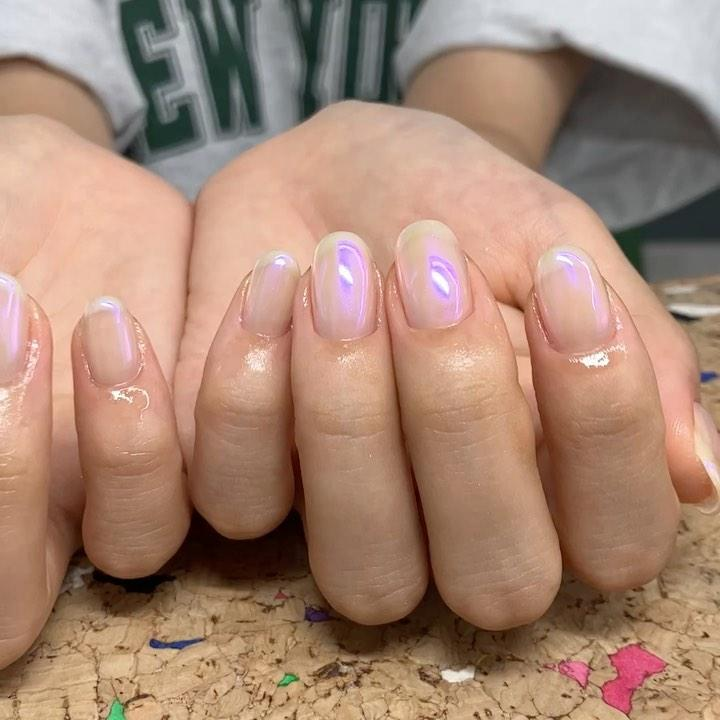nail: (384, 218, 563, 631), (288, 229, 429, 626), (523, 243, 680, 592), (69, 294, 191, 580), (187, 249, 300, 540), (532, 243, 614, 355), (393, 218, 473, 330), (310, 229, 381, 341), (79, 295, 143, 388), (239, 249, 300, 337), (690, 400, 719, 514), (0, 271, 26, 384)
